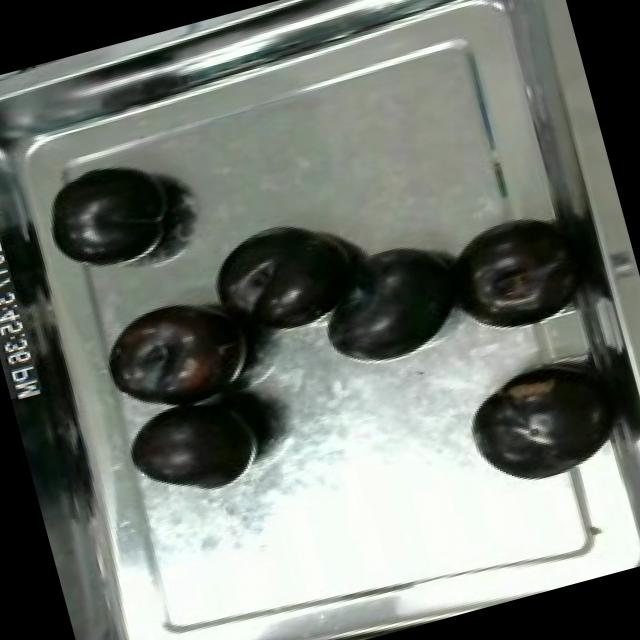Fruit: (190, 200, 374, 352), (86, 278, 266, 427), (451, 347, 624, 502), (299, 230, 477, 380), (28, 145, 190, 285), (112, 380, 276, 512), (441, 204, 589, 340)
